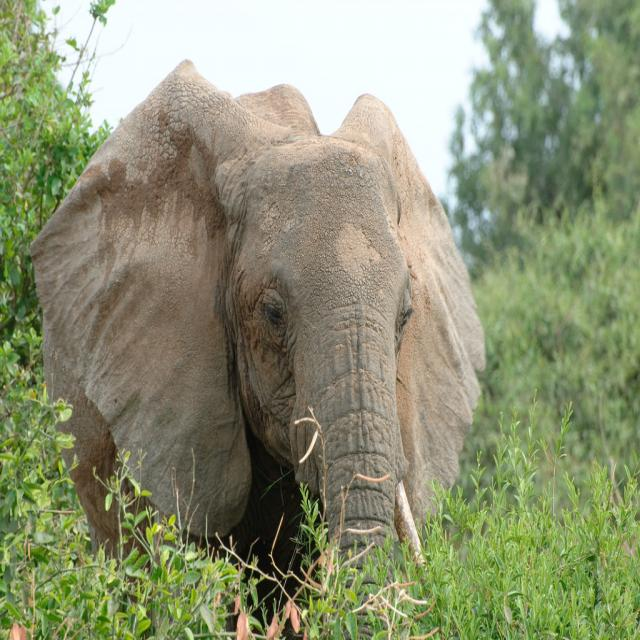elephant: (29, 52, 484, 639)
